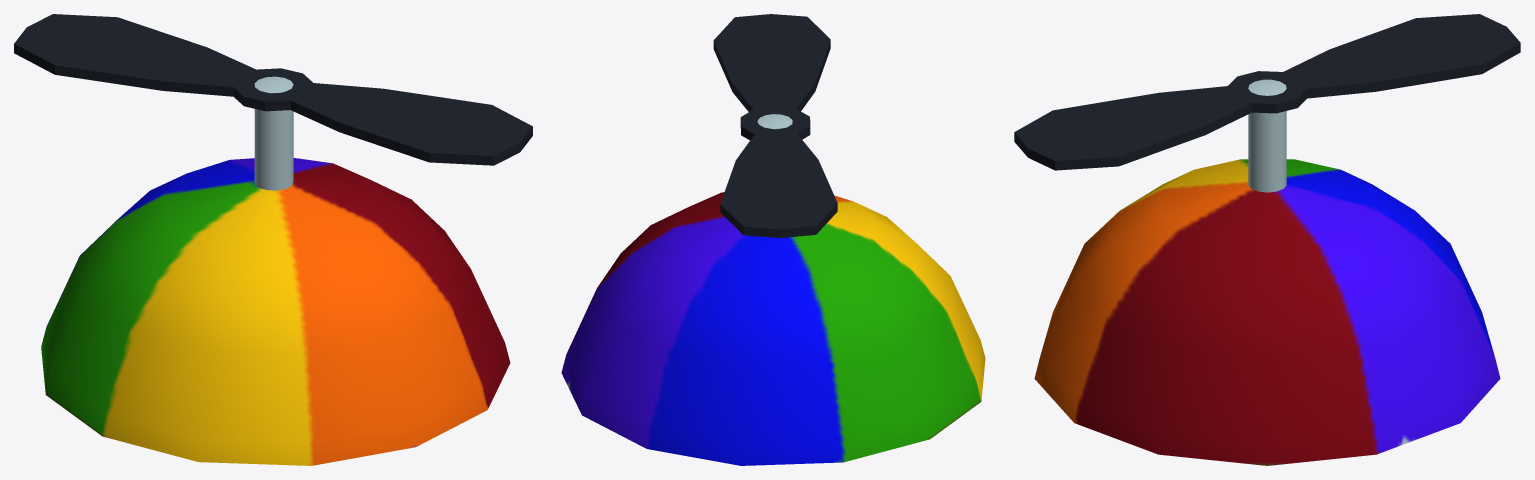
The model's file is propellerHat.fbx.
3 views of the same model, side by side, from view 1: azimuth 30°, elevation 25°; view 2: azimuth 150°, elevation 25°; view 3: azimuth 270°, elevation 25° (orthographic). The views are drawn at different scales.
Visible parts, largest first — view 1: pSphere4, pPipe1; view 2: pSphere4, pPipe1; view 3: pSphere4, pPipe1.
Part boxes in pixels (left/top/right/bottom): pSphere4: left=41, top=76, right=510, bottom=465; pPipe1: left=14, top=14, right=532, bottom=165; pSphere4: left=561, top=114, right=985, bottom=465; pPipe1: left=713, top=14, right=837, bottom=237; pSphere4: left=1034, top=79, right=1500, bottom=465; pPipe1: left=1014, top=14, right=1520, bottom=170.
Size of the model in its own units: 1.23 by 0.8392 by 1.34.
Materials: 2 (1 with a texture image).
